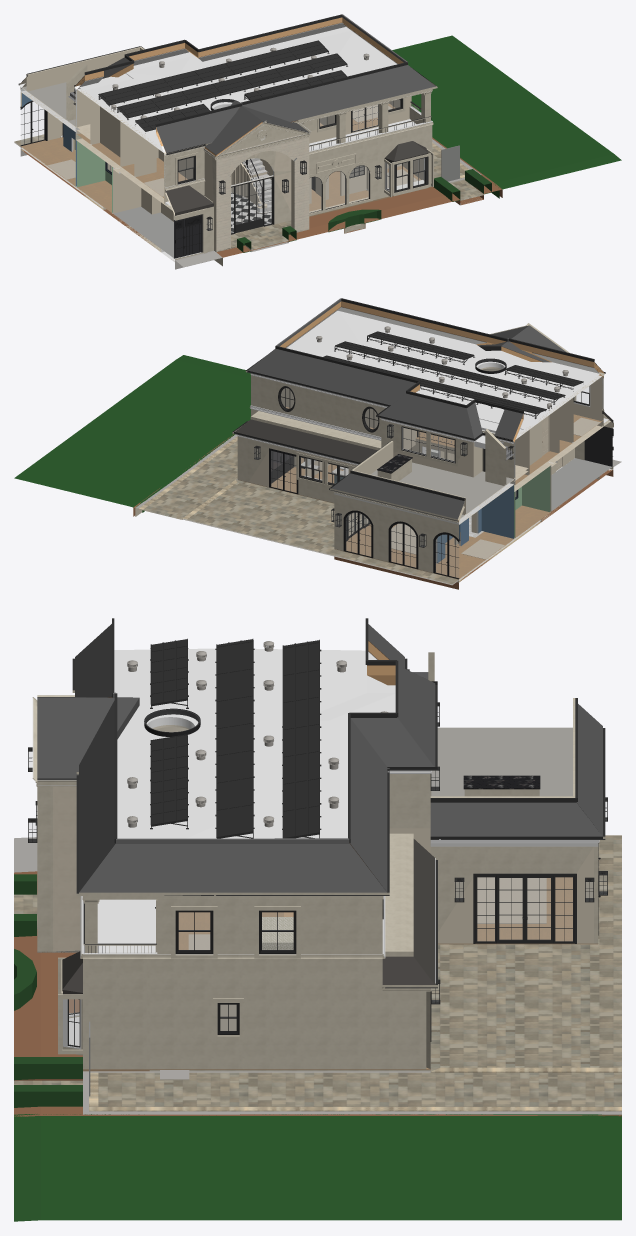
The model's file is elevation-east-69efe30f4940.glb.
The picture shows the model from 3 angles, top to bottom: view 1: azimuth 30°, elevation 25°; view 2: azimuth 150°, elevation 25°; view 3: azimuth 270°, elevation 25°; orthographic projection. The views are drawn at different scales.
Visible parts, largest first — view 1: elevation-east-aee2d046b0172b1e, elevation-east-d56ee2a9d54b1fc2, elevation-east-e33d7b378dc851e2, elevation-east-0b9d5d1cd0b2c60f, elevation-east-7cf8e5cfa8b264af, elevation-east-f9d31319fa3bf46f, elevation-east-698abdfdc6fb970d, elevation-east-25c3ff3929e46046, elevation-east-b39baa29700ae605, elevation-east-3b0077416469e01b, elevation-east-2575515a05775d9e, elevation-east-e566fc302b71b574 (+56 smaller); view 2: elevation-east-aee2d046b0172b1e, elevation-east-d56ee2a9d54b1fc2, elevation-east-9a168d6ce9d31ade, elevation-east-c91f911e25c8cae7, elevation-east-3b0077416469e01b, elevation-east-969b861f9850351e, elevation-east-3763e2fb8578d282, elevation-east-2c1fd33d433632d0, elevation-east-5febae1537653d02, elevation-east-0b9d5d1cd0b2c60f, elevation-east-4ce8397b8f5ef0f7, elevation-east-ded88bd99590d377 (+40 smaller); view 3: elevation-east-aee2d046b0172b1e, elevation-east-9a168d6ce9d31ade, elevation-east-d56ee2a9d54b1fc2, elevation-east-2c1fd33d433632d0, elevation-east-a75a0c9c223328ee, elevation-east-af97eba351c411ae, elevation-east-ded88bd99590d377, elevation-east-e706aa16b4547c37, elevation-east-adb6f49a6d2cbec3, elevation-east-0b9d5d1cd0b2c60f, elevation-east-7cf8e5cfa8b264af, elevation-east-3d5fbc3a2a5f9c05 (+41 smaller).
Boxes of the visible parts, bbox=[...] form: elevation-east-aee2d046b0172b1e: bbox=[21, 35, 621, 257]; elevation-east-d56ee2a9d54b1fc2: bbox=[85, 30, 396, 146]; elevation-east-e33d7b378dc851e2: bbox=[242, 65, 435, 121]; elevation-east-0b9d5d1cd0b2c60f: bbox=[116, 53, 347, 119]; elevation-east-7cf8e5cfa8b264af: bbox=[98, 40, 329, 106]; elevation-east-f9d31319fa3bf46f: bbox=[224, 134, 301, 249]; elevation-east-698abdfdc6fb970d: bbox=[231, 176, 274, 234]; elevation-east-25c3ff3929e46046: bbox=[156, 106, 239, 153]; elevation-east-b39baa29700ae605: bbox=[309, 121, 432, 169]; elevation-east-3b0077416469e01b: bbox=[21, 137, 407, 206]; elevation-east-2575515a05775d9e: bbox=[75, 103, 409, 204]; elevation-east-e566fc302b71b574: bbox=[80, 27, 350, 145]; elevation-east-aee2d046b0172b1e: bbox=[14, 355, 613, 589]; elevation-east-d56ee2a9d54b1fc2: bbox=[286, 310, 599, 429]; elevation-east-9a168d6ce9d31ade: bbox=[182, 479, 458, 585]; elevation-east-c91f911e25c8cae7: bbox=[247, 348, 415, 405]; elevation-east-3b0077416469e01b: bbox=[239, 457, 541, 579]; elevation-east-969b861f9850351e: bbox=[334, 494, 460, 572]; elevation-east-3763e2fb8578d282: bbox=[251, 375, 385, 436]; elevation-east-2c1fd33d433632d0: bbox=[138, 436, 237, 519]; elevation-east-5febae1537653d02: bbox=[331, 473, 464, 519]; elevation-east-0b9d5d1cd0b2c60f: bbox=[334, 341, 565, 404]; elevation-east-4ce8397b8f5ef0f7: bbox=[378, 393, 474, 438]; elevation-east-ded88bd99590d377: bbox=[371, 462, 513, 517]; elevation-east-aee2d046b0172b1e: bbox=[14, 871, 621, 1221]; elevation-east-9a168d6ce9d31ade: bbox=[430, 835, 621, 1072]; elevation-east-d56ee2a9d54b1fc2: bbox=[114, 648, 395, 838]; elevation-east-2c1fd33d433632d0: bbox=[89, 1072, 621, 1111]; elevation-east-a75a0c9c223328ee: bbox=[79, 843, 386, 892]; elevation-east-af97eba351c411ae: bbox=[285, 974, 426, 1069]; elevation-east-ded88bd99590d377: bbox=[431, 727, 572, 796]; elevation-east-e706aa16b4547c37: bbox=[430, 846, 593, 943]; elevation-east-adb6f49a6d2cbec3: bbox=[157, 899, 382, 953]; elevation-east-0b9d5d1cd0b2c60f: bbox=[215, 639, 254, 838]; elevation-east-7cf8e5cfa8b264af: bbox=[282, 639, 321, 838]; elevation-east-3d5fbc3a2a5f9c05: bbox=[473, 873, 576, 943].
Size of the model in its own units: 29.52 by 8.45 by 19.78.
84 materials, 18 textured.
